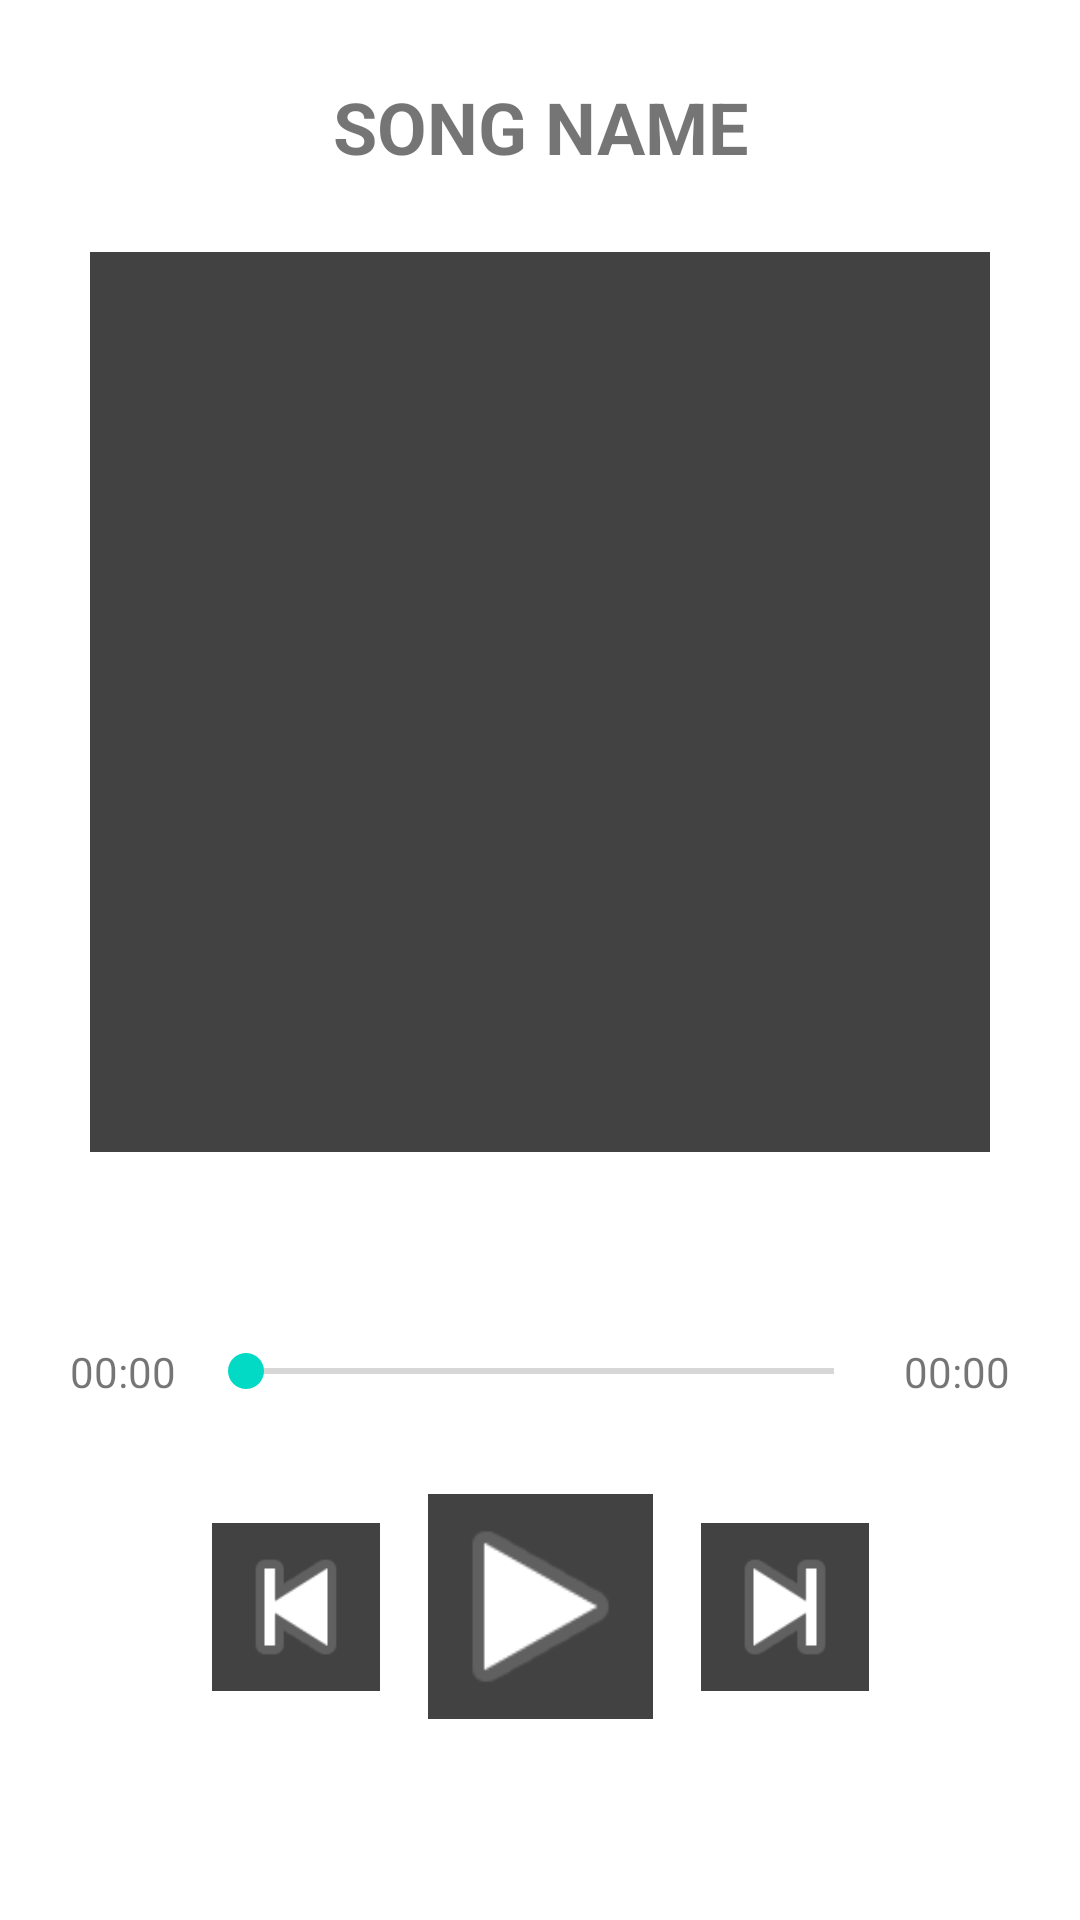

Screen size 1080 x 1920. Icon name, then its center in pixels as (x,y):
next: (785,1607)
play: (540,1606)
previous: (296,1607)
